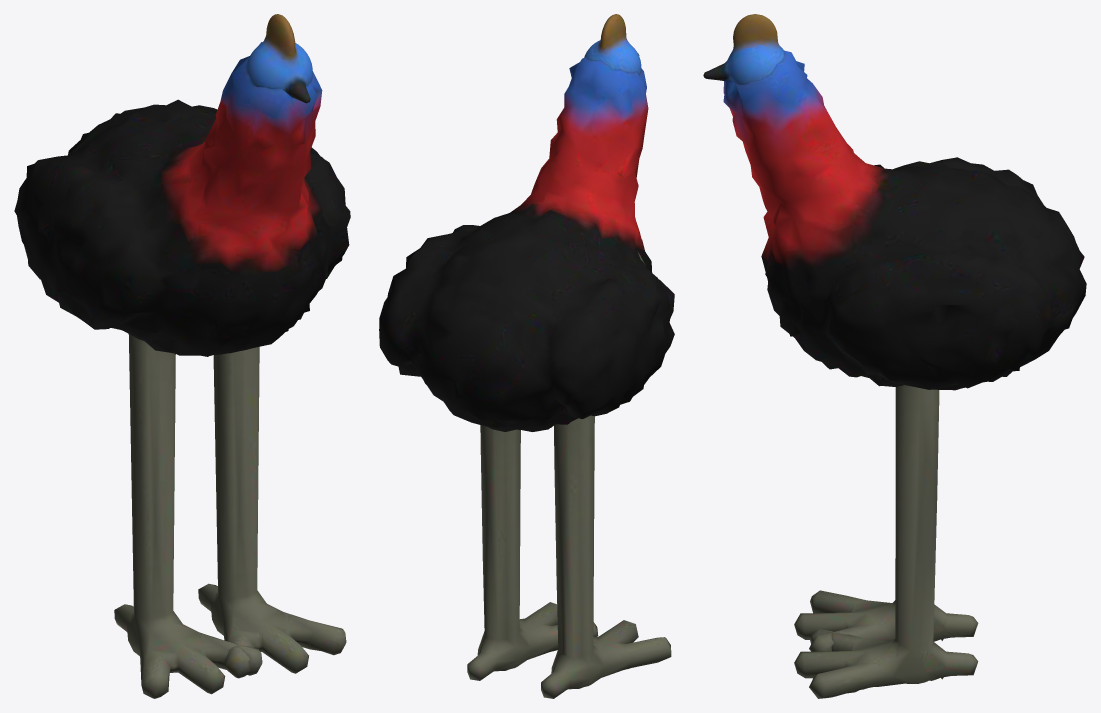
Rendered from animal_cassowary.glb.
3 renders of one model, left to right at view 1: azimuth 30°, elevation 25°; view 2: azimuth 150°, elevation 25°; view 3: azimuth 270°, elevation 25°, orthographic. The views are drawn at different scales.
Visible parts, largest first — view 1: animal_cassowary, leg0, leg1, head; view 2: animal_cassowary, leg0, leg1, head; view 3: animal_cassowary, leg1, leg0, head.
Part boxes in pixels (box(x1,y1,x2,y2)): animal_cassowary: box(14, 42, 350, 356); leg0: box(114, 334, 262, 698); leg1: box(198, 347, 346, 678); head: box(246, 14, 312, 103); animal_cassowary: box(379, 57, 674, 431); leg0: box(541, 415, 671, 698); leg1: box(467, 425, 598, 680); head: box(584, 14, 641, 74); animal_cassowary: box(723, 50, 1086, 390); leg1: box(794, 385, 978, 698); leg0: box(794, 558, 978, 651); head: box(703, 14, 784, 84).
Size of the model in its own units: 0.326 by 0.7965 by 0.4303.
1 material, 1 textured.
